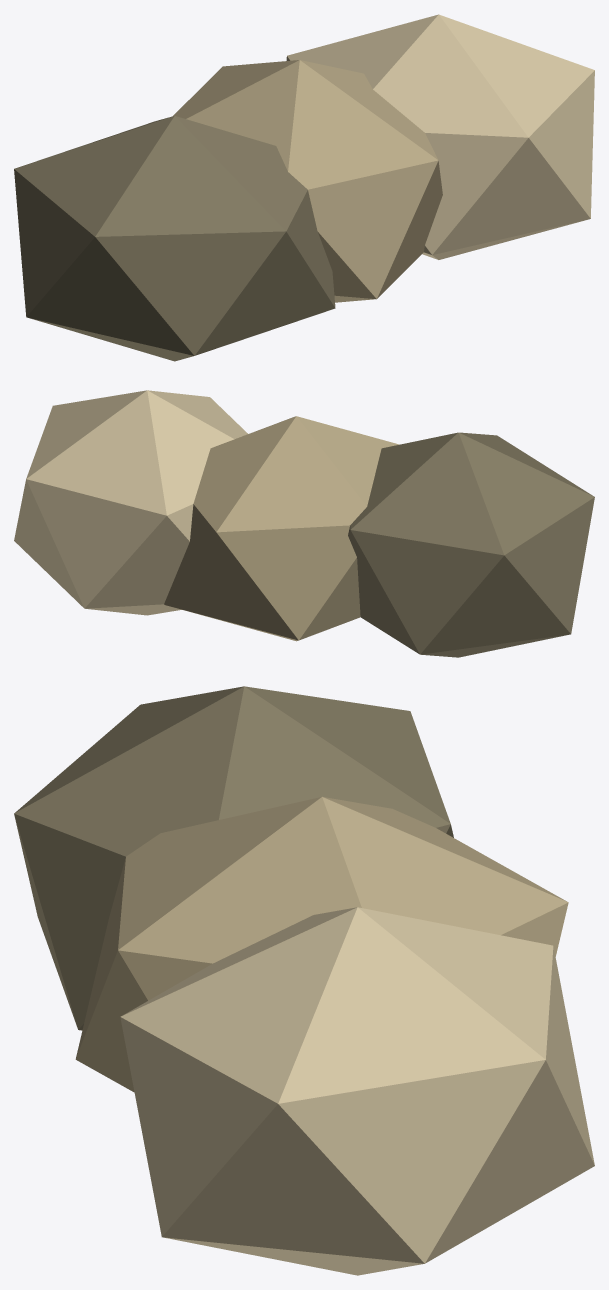
Rendered from rock_cluster.glb.
3 renders of one model, top to bottom at view 1: azimuth 30°, elevation 25°; view 2: azimuth 150°, elevation 25°; view 3: azimuth 270°, elevation 25°, orthographic. The views are drawn at different scales.
Visible parts, largest first — view 1: RiverStones; view 2: RiverStones; view 3: RiverStones.
Boxes of the visible parts, x1=… form: RiverStones: x1=14, y1=14, x2=594, y2=361; RiverStones: x1=14, y1=390, x2=594, y2=657; RiverStones: x1=14, y1=686, x2=594, y2=1275.
Size of the model in its own units: 0.6764 by 0.28 by 0.4002.
